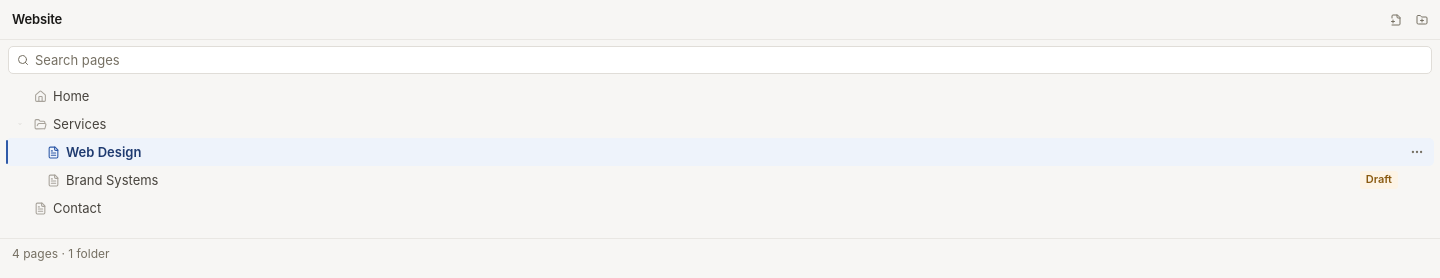
Test case: website explorer › filters the tree and keeps ancestors of a nested match
Type "web" into the field named "Search pages and folders" at (729, 60), box top-left (35, 47), bottom-right (1423, 73)
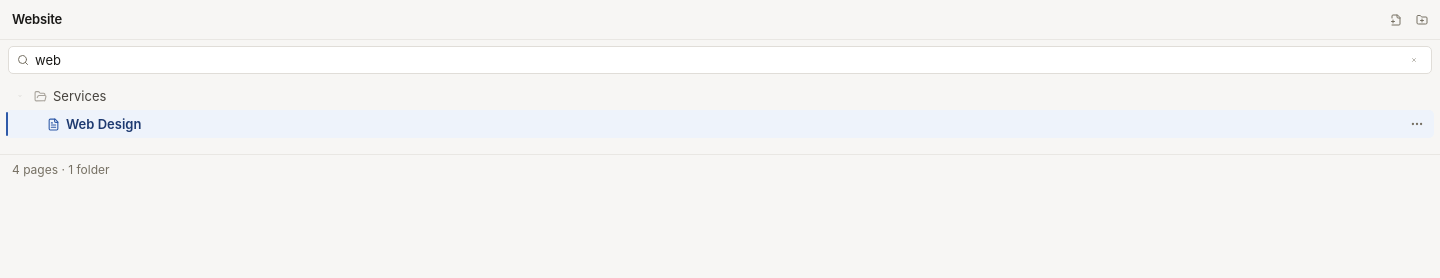
Expected: the text "Web Design" is shown, top-left (66, 116), bottom-right (141, 132)
Result: the button "Contact" is gone
